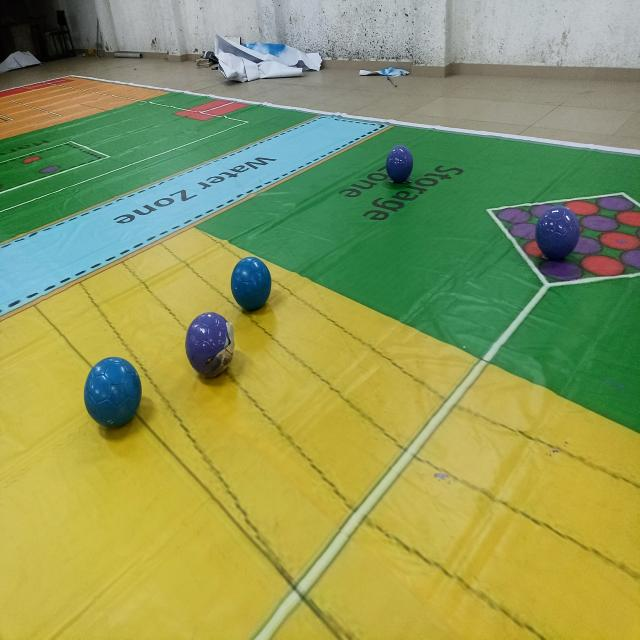blue_ball: (84, 353, 146, 440), (229, 253, 276, 317)
purple_ball: (184, 307, 240, 377), (534, 204, 582, 258), (384, 141, 419, 194)
